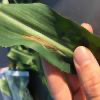Corn leaf blight: (1, 3, 73, 69)
